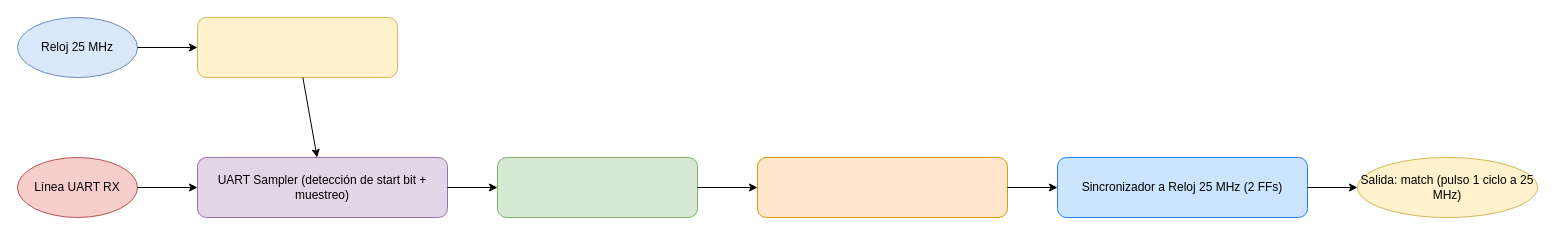
This 1555x235 diagram has some shape labels left out. The shapes that lost their labels are listed below. From the top down, each one's box as (x1, y1, x2, y2) in pixels, then its label:
(196, 16, 398, 78): Baud-Rate Generator (115200 bps)
(496, 156, 698, 218): Registro SIPO (Shift Register 8 bits)
(756, 156, 1008, 218): Detector de Patrón (comparador 4 bits == 0101)
